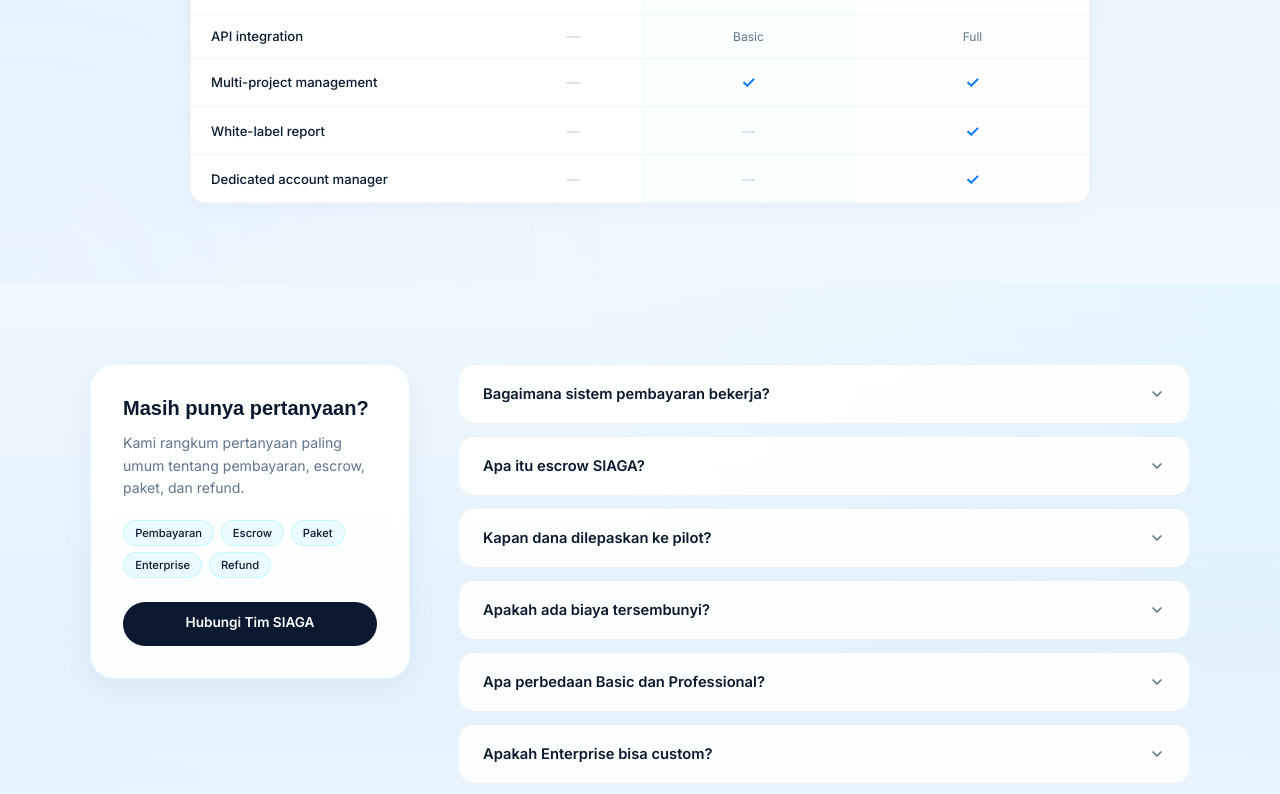
Test: FAQ Knowledge Base › clicking a FAQ item opens it
(page scrolled)
Click the button "Bagaimana sistem pembayaran bekerja?".
click(626, 394)  # box x1=459 y1=365 x2=1189 y2=423
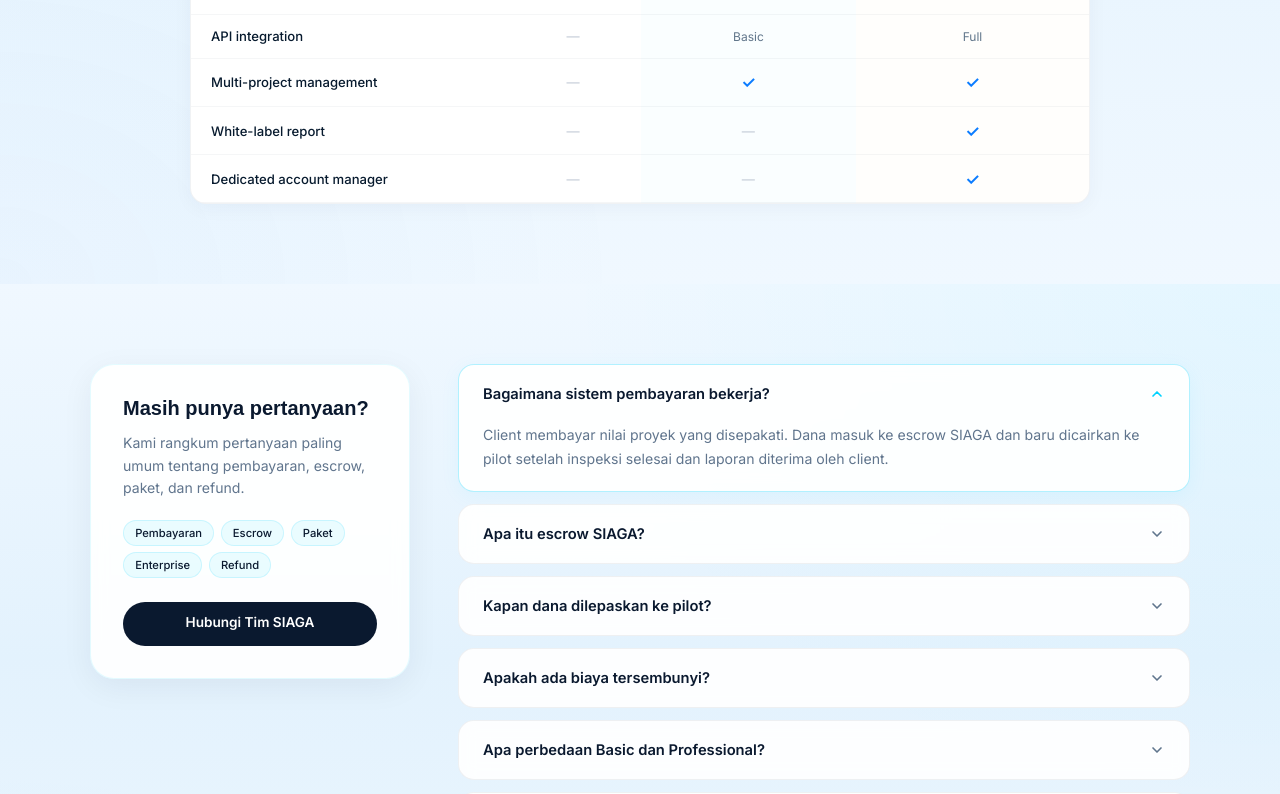
Now the button "Bagaimana sistem pembayaran bekerja?" is expanded, box x1=459 y1=365 x2=1189 y2=423
